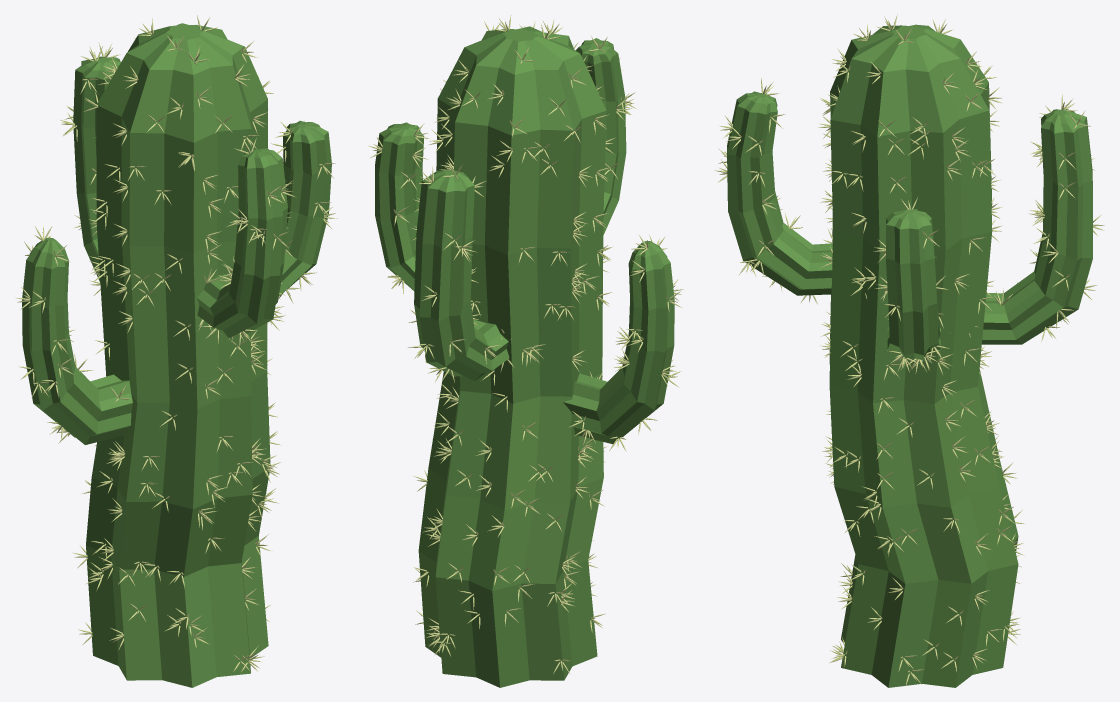
File: Cactus_Tree_003.fbx
3 renders of one model, left to right at view 1: azimuth 30°, elevation 25°; view 2: azimuth 150°, elevation 25°; view 3: azimuth 270°, elevation 25°, orthographic.
Visible parts, largest first — view 1: Cactus_Tree_03; view 2: Cactus_Tree_03; view 3: Cactus_Tree_03.
Part boxes in pixels (x1,y1,x2,y2): Cactus_Tree_03: [15, 15, 337, 687]; Cactus_Tree_03: [368, 14, 683, 687]; Cactus_Tree_03: [714, 14, 1104, 687].
Bounding box in the file's own units: 180 × 353 × 198.
